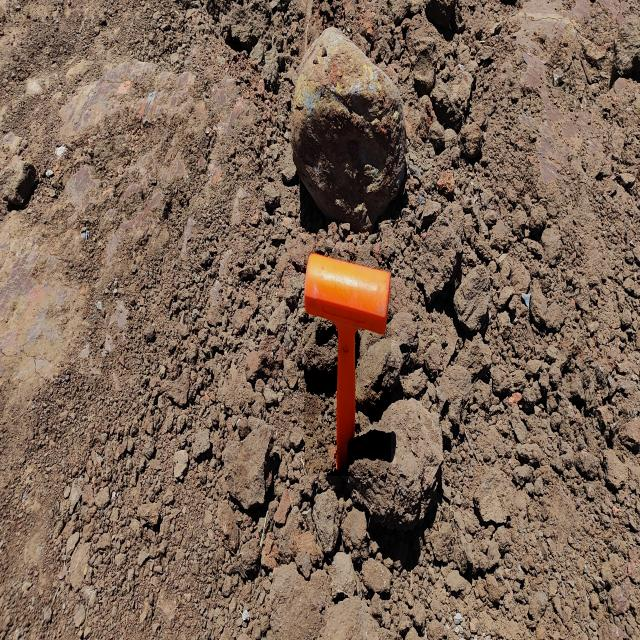Orange_hammer: (304, 251, 391, 476)
